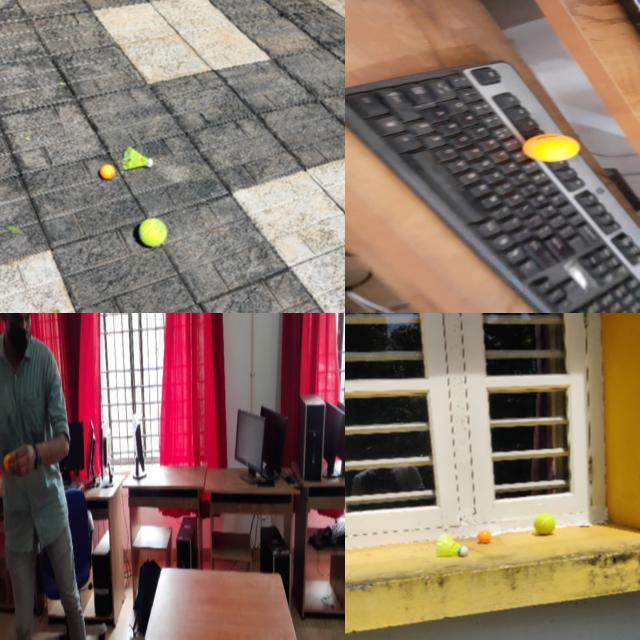ping-pong-ball: (524, 134, 582, 162), (100, 164, 114, 178), (2, 450, 10, 470), (478, 530, 490, 542)
